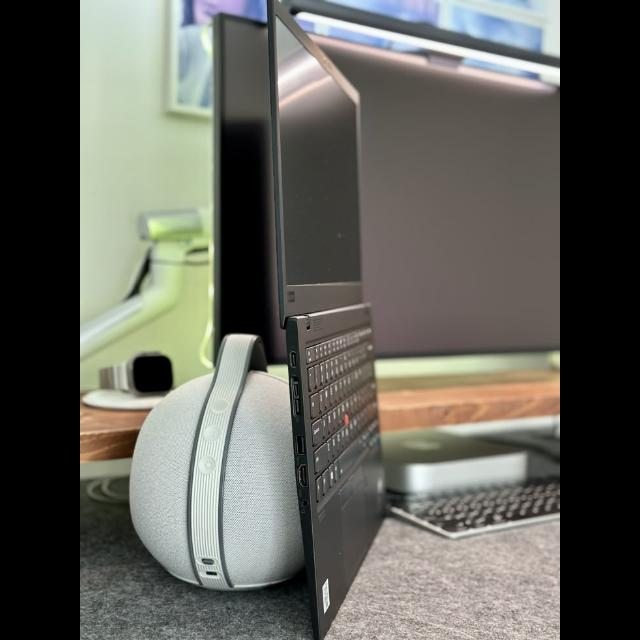laptop: (267, 0, 384, 639)
